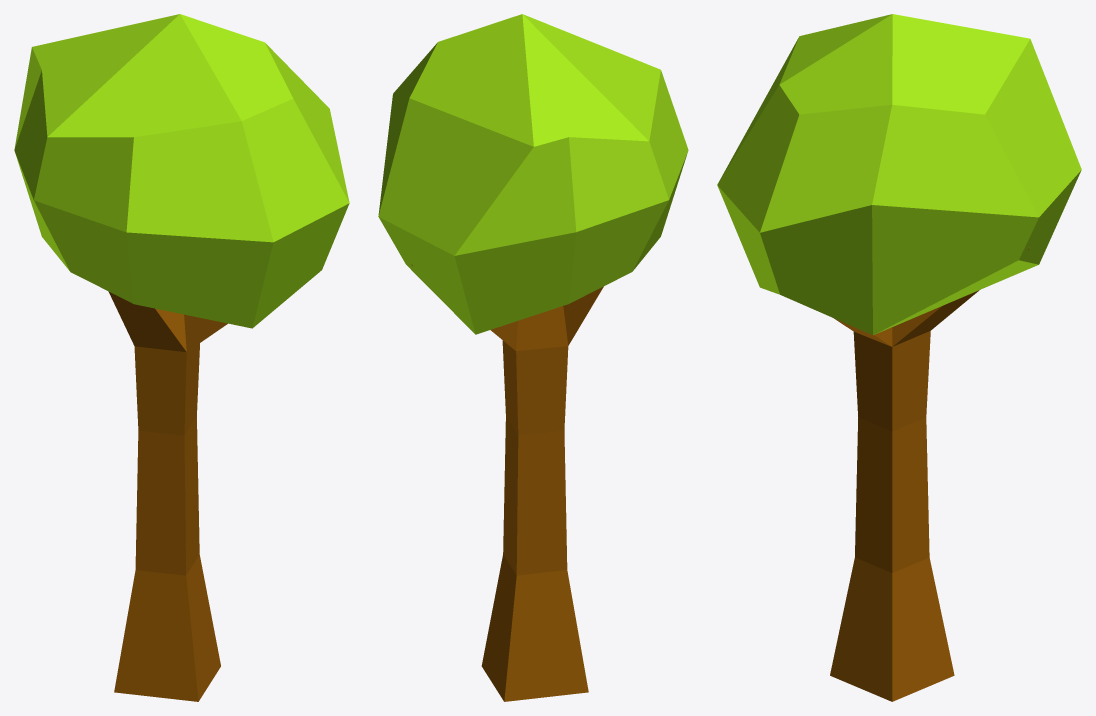
Rendered from tree.fbx.
3 views of the same model, side by side, from view 1: azimuth 30°, elevation 25°; view 2: azimuth 150°, elevation 25°; view 3: azimuth 270°, elevation 25° (orthographic).
Parts seen in each view (by area): view 1: Cube, Cylinder; view 2: Cube, Cylinder; view 3: Cube, Cylinder.
Boxes of the visible parts, <box> form: Cube: <box>14,14,349,328</box>; Cylinder: <box>108,291,227,701</box>; Cube: <box>378,14,688,334</box>; Cylinder: <box>411,264,603,701</box>; Cube: <box>717,14,1081,335</box>; Cylinder: <box>830,247,1029,701</box>.
Bounding box in the file's own units: 587 × 1298 × 642.
